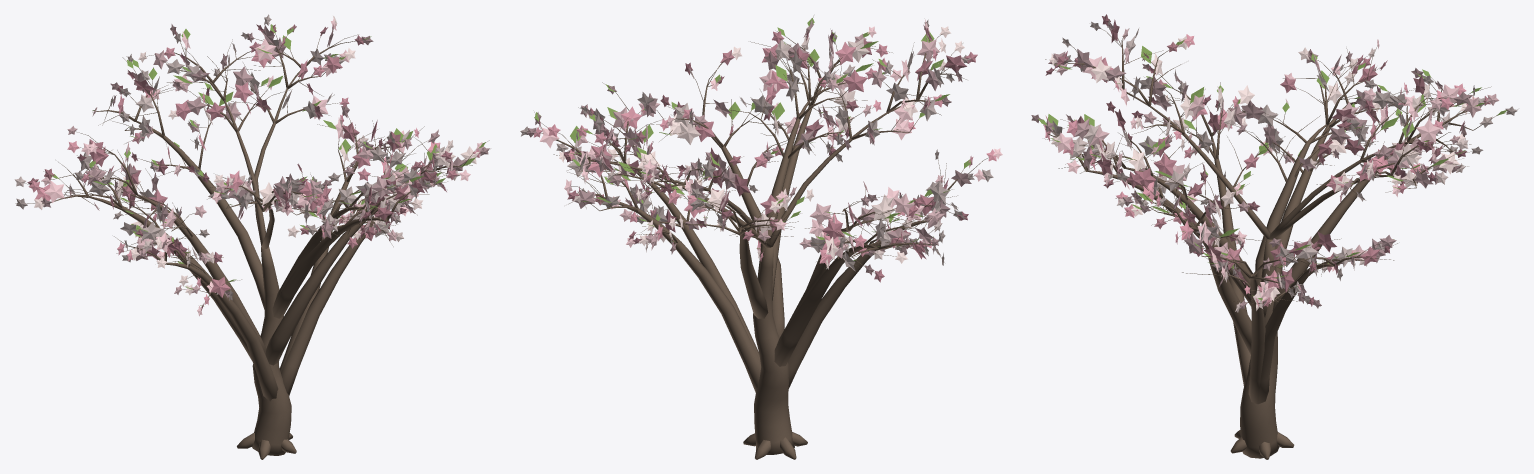
File: sakura_mid.glb
The picture shows the model from 3 angles, left to right: view 1: azimuth 30°, elevation 25°; view 2: azimuth 150°, elevation 25°; view 3: azimuth 270°, elevation 25°; orthographic projection. The views are drawn at different scales.
Parts seen in each view (by area): view 1: cherry_blossom rough living bark, cherry_blossom foliage 3, cherry_blossom foliage 2, cherry_blossom foliage 1, cherry_blossom fine twig bark, cherry_blossom emerging green; view 2: cherry_blossom rough living bark, cherry_blossom foliage 2, cherry_blossom foliage 3, cherry_blossom foliage 1, cherry_blossom fine twig bark, cherry_blossom emerging green; view 3: cherry_blossom rough living bark, cherry_blossom foliage 3, cherry_blossom foliage 2, cherry_blossom foliage 1, cherry_blossom fine twig bark, cherry_blossom emerging green.
Part boxes in pixels (x1,y1,x2,y2): cherry_blossom rough living bark: [89, 70, 385, 459]; cherry_blossom foliage 3: [14, 14, 479, 300]; cherry_blossom foliage 2: [41, 18, 490, 316]; cherry_blossom foliage 1: [27, 24, 480, 310]; cherry_blossom fine twig bark: [15, 23, 489, 303]; cherry_blossom emerging green: [50, 24, 485, 306]; cherry_blossom rough living bark: [590, 86, 927, 459]; cherry_blossom foliage 2: [526, 19, 1002, 275]; cherry_blossom foliage 3: [520, 18, 993, 271]; cherry_blossom foliage 1: [533, 25, 996, 282]; cherry_blossom fine twig bark: [527, 16, 988, 272]; cherry_blossom emerging green: [534, 18, 970, 260]; cherry_blossom rough living bark: [1088, 92, 1428, 459]; cherry_blossom foliage 3: [1049, 19, 1517, 312]; cherry_blossom foliage 2: [1031, 23, 1499, 309]; cherry_blossom foliage 1: [1044, 14, 1490, 307]; cherry_blossom fine twig bark: [1044, 24, 1517, 306]; cherry_blossom emerging green: [1038, 39, 1507, 300].
Bounding box in the file's own units: 1.21 × 0.9965 × 1.16.
6 materials, 6 textured.
